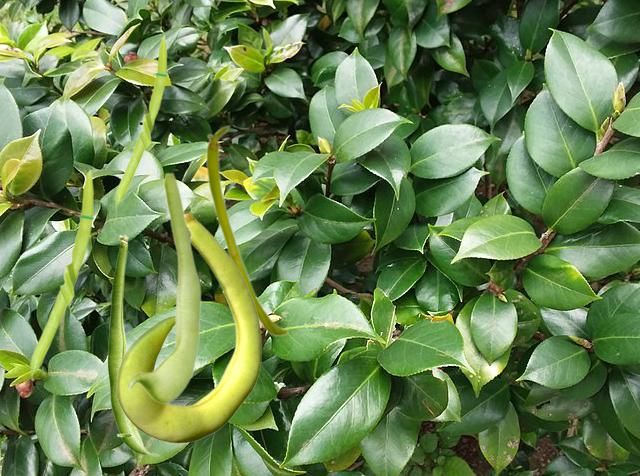french_bean: (116, 211, 261, 442), (205, 124, 288, 336), (127, 171, 200, 402), (27, 166, 95, 397), (107, 234, 159, 455), (112, 32, 168, 225)
